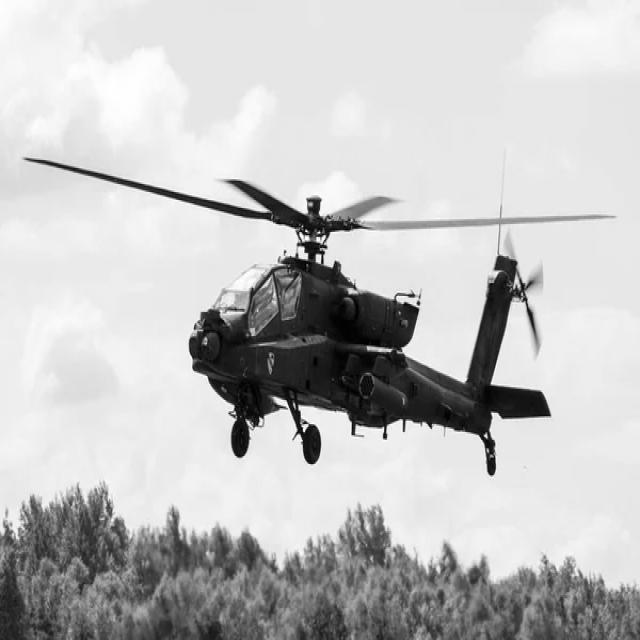Helicopter: (189, 182, 551, 474)
